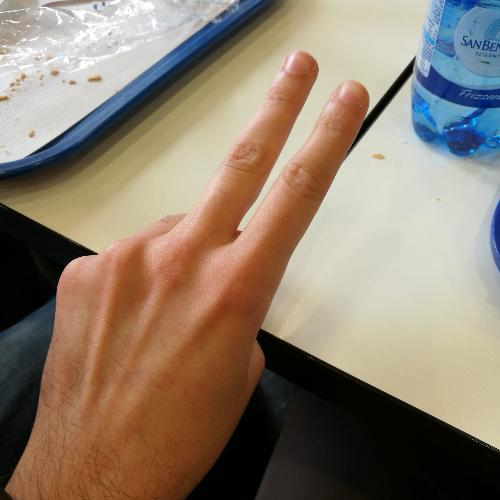scissors: (47, 45, 373, 480)
